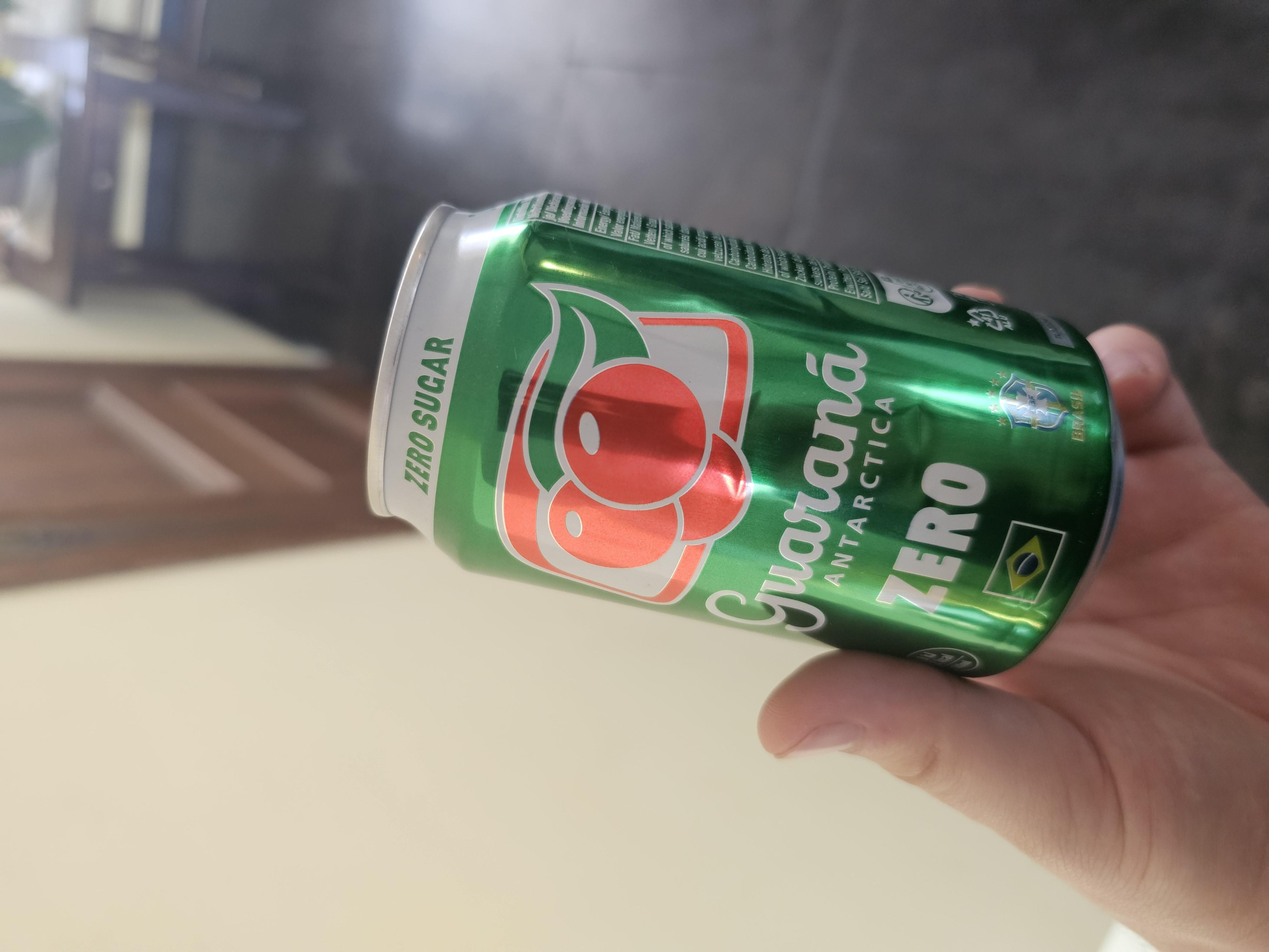Metal: (349, 274, 1032, 856)
